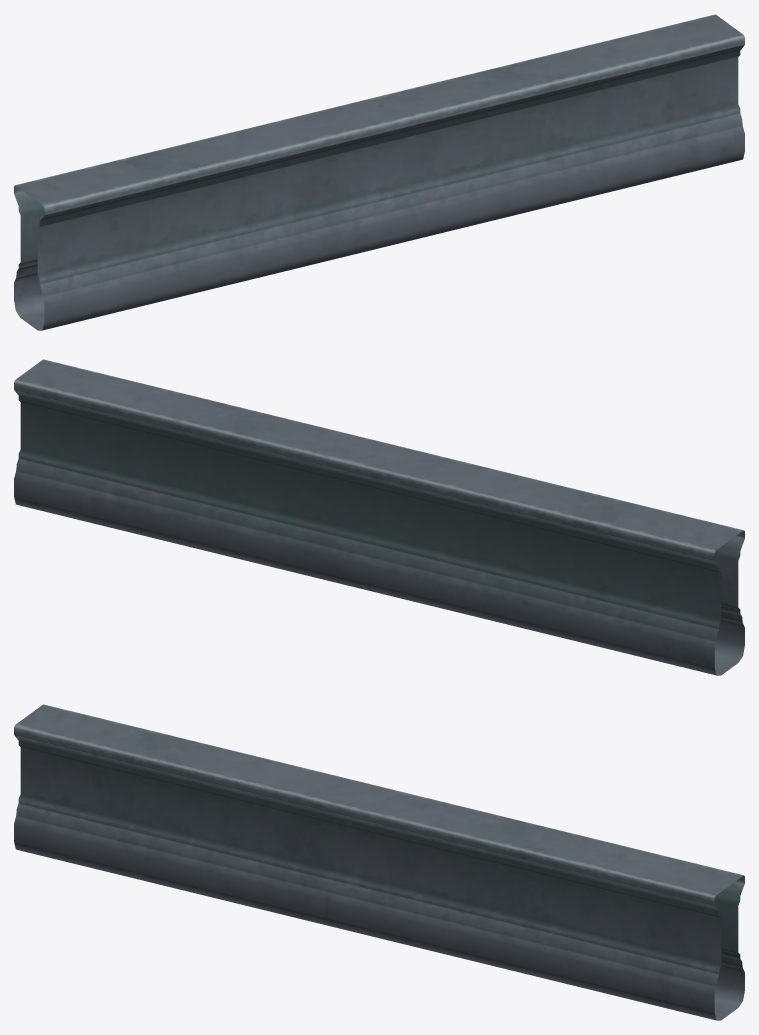
Rendered from Railing_Main.fbx.
3 views of the same model, one above another, from view 1: azimuth 30°, elevation 25°; view 2: azimuth 150°, elevation 25°; view 3: azimuth 330°, elevation 25° (orthographic).
Parts seen in each view (by area): view 1: Railing_Main; view 2: Railing_Main; view 3: Railing_Main.
Boxes of the visible parts, bbox=[...] form: Railing_Main: bbox=[14, 14, 744, 330]; Railing_Main: bbox=[14, 359, 744, 675]; Railing_Main: bbox=[14, 704, 744, 1020].
Size of the model in its own units: 500 by 87.68 by 37.55.
Materials: 1 (1 with a texture image).
